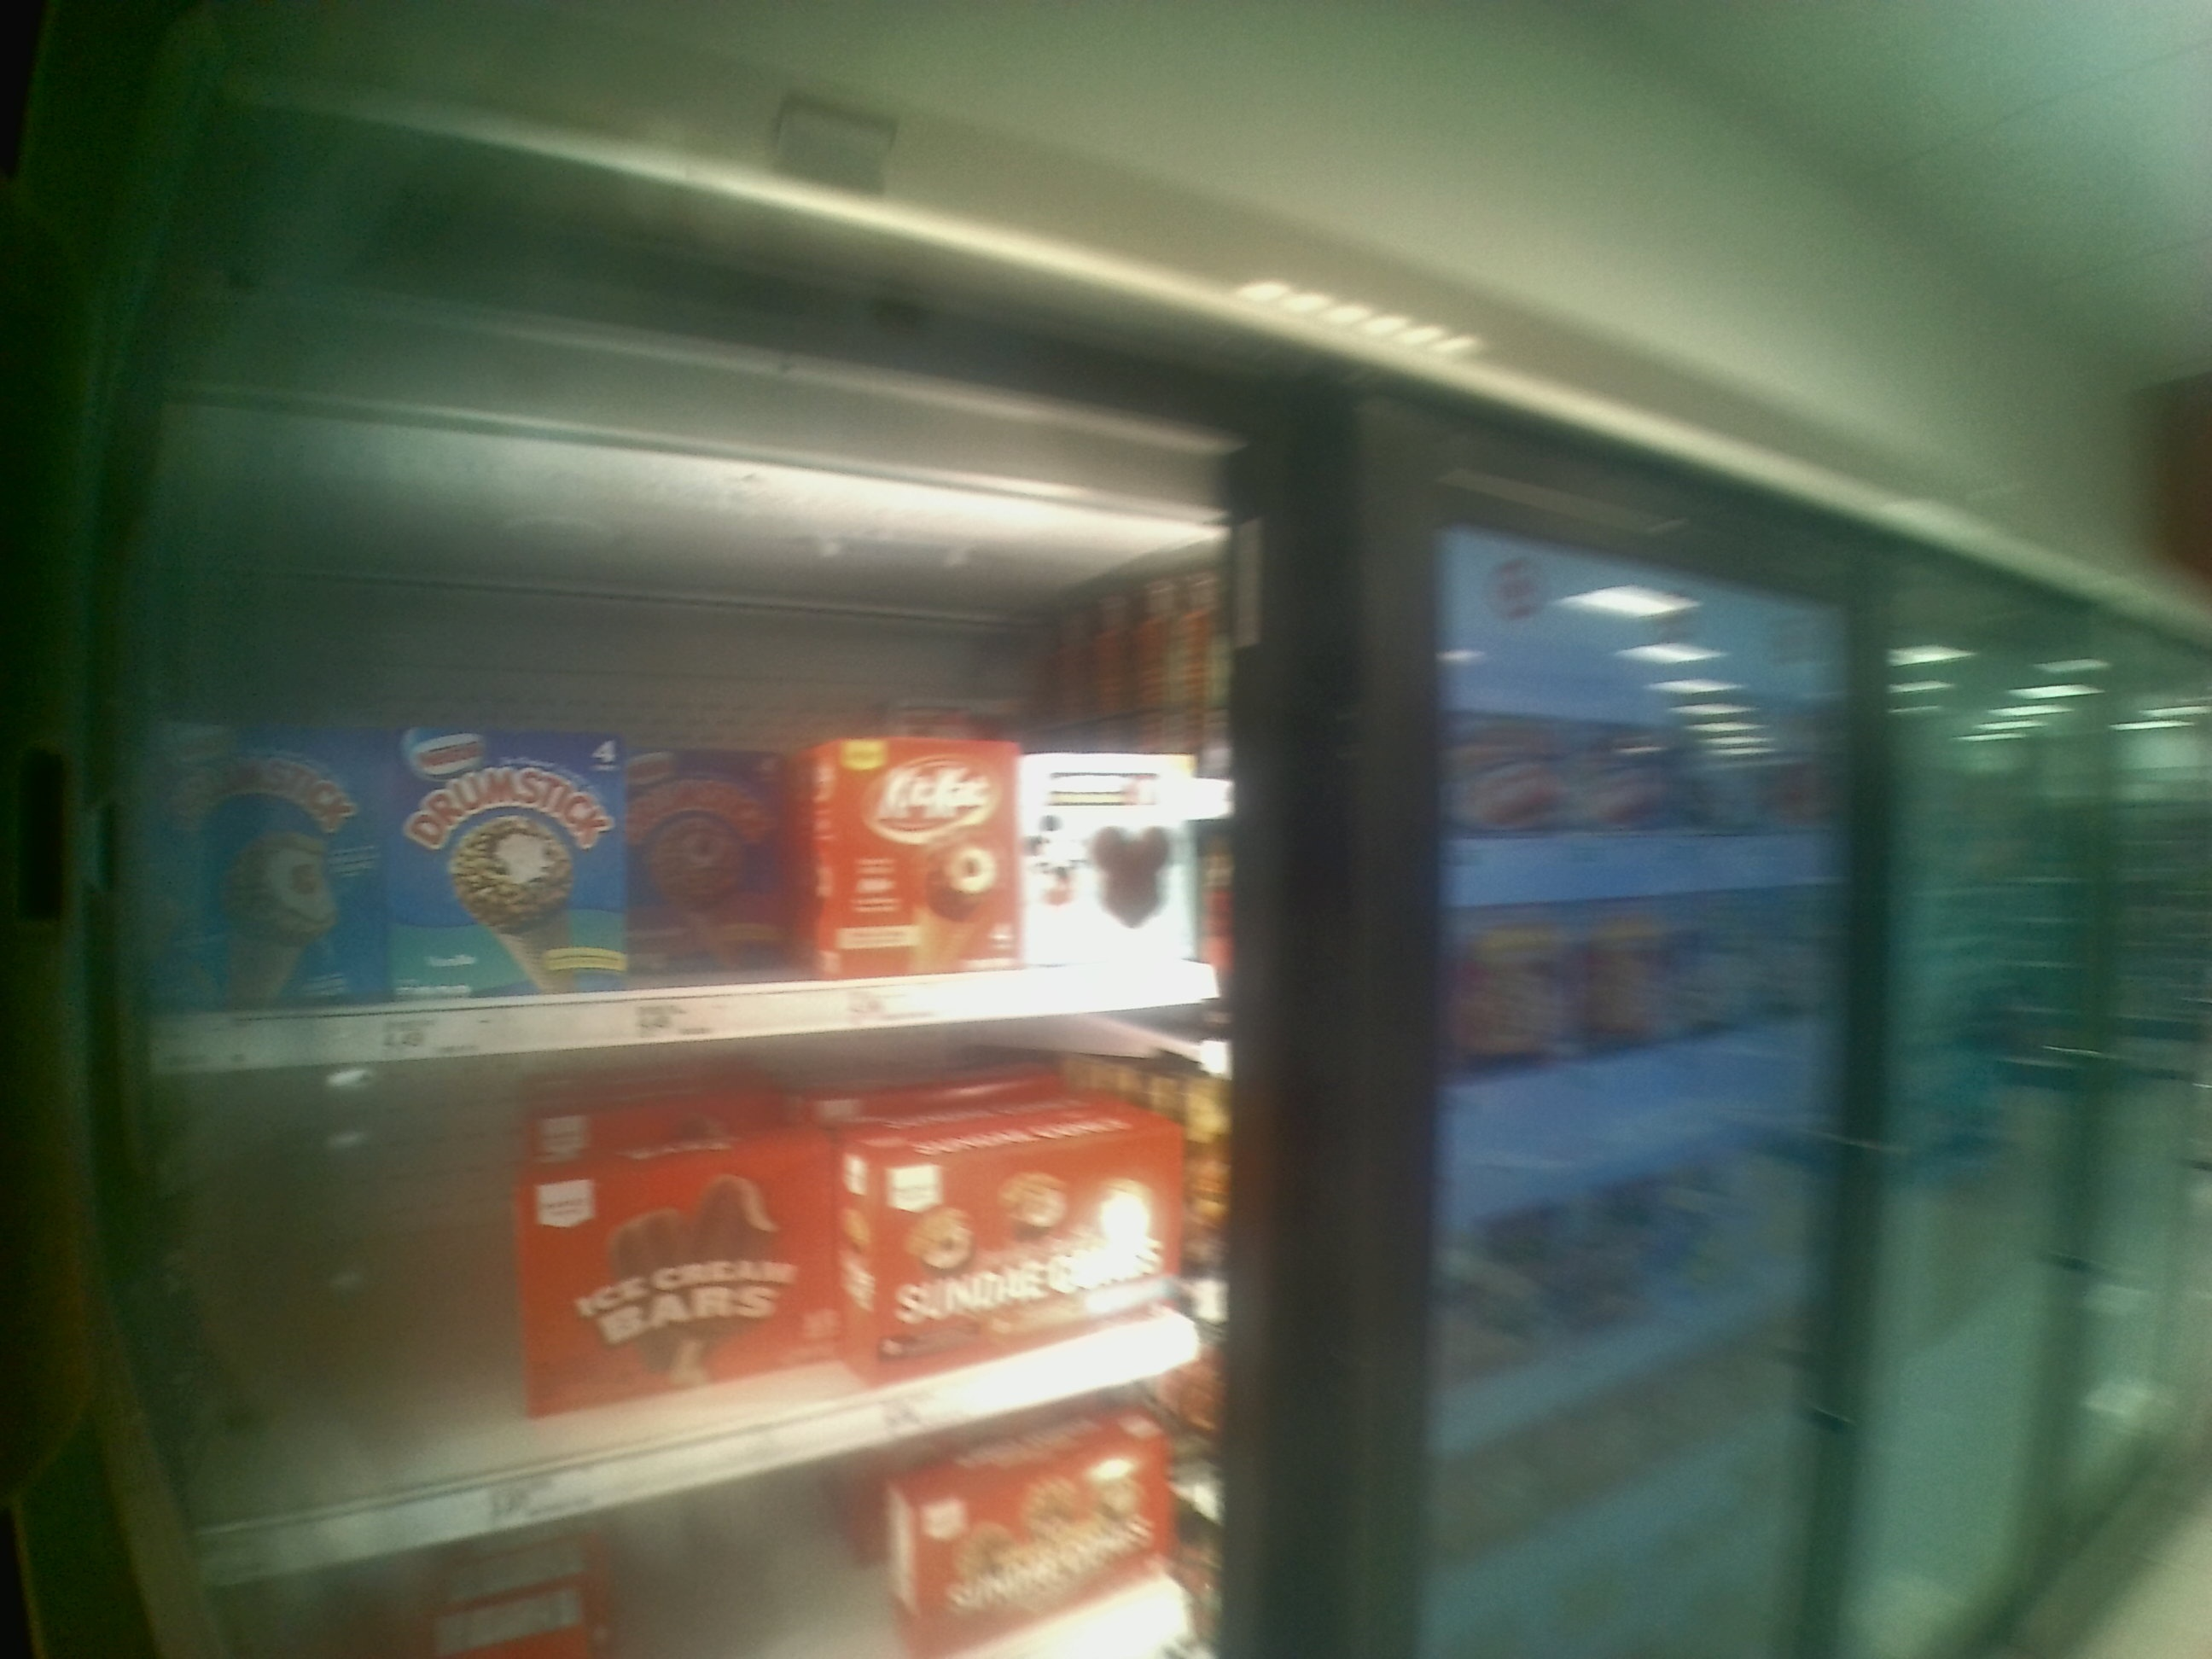shelf: (125, 995, 1245, 1582), (124, 575, 1264, 1065)
